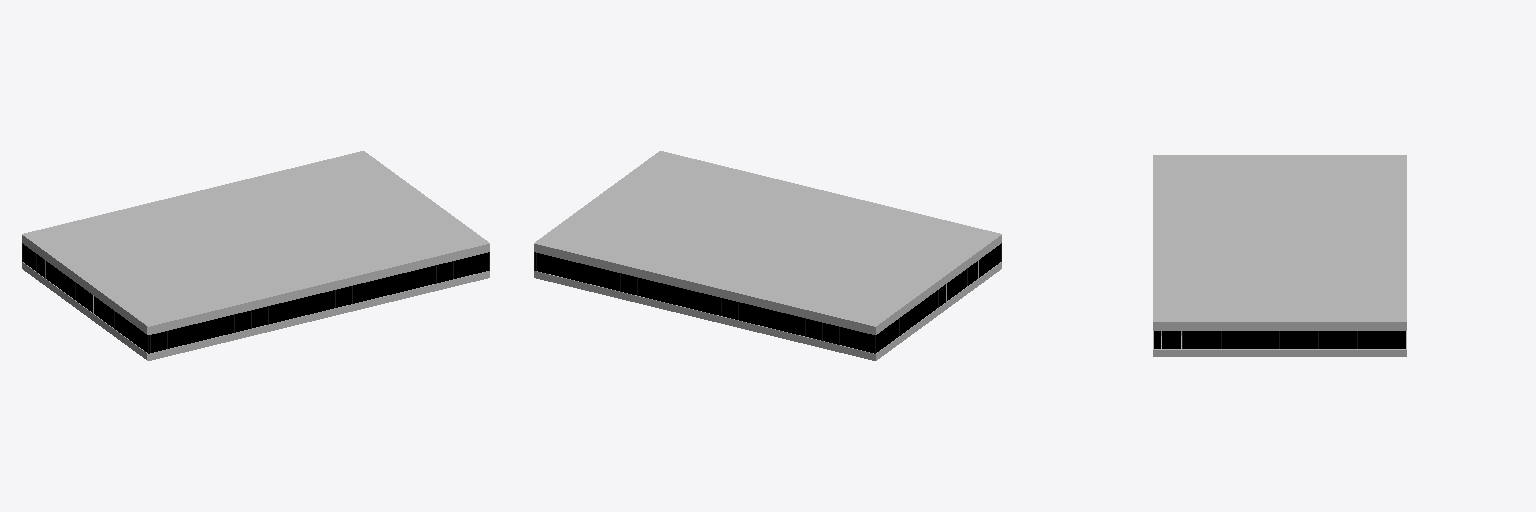
File: floor9ft.obj
3 views of the same model, side by side, from view 1: azimuth 30°, elevation 25°; view 2: azimuth 150°, elevation 25°; view 3: azimuth 270°, elevation 25° (orthographic).
Parts seen in each view (by area): view 1: floor9ft; view 2: floor9ft; view 3: floor9ft.
Boxes of the visible parts, <box> form: floor9ft: <box>22,151,489,360</box>; floor9ft: <box>534,151,1001,360</box>; floor9ft: <box>1153,155,1406,356</box>.
Bounding box in the file's own units: 38.03 × 3.66 × 24.39.